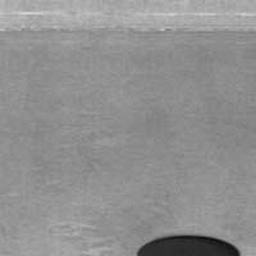Punching: (136, 233, 241, 256)
